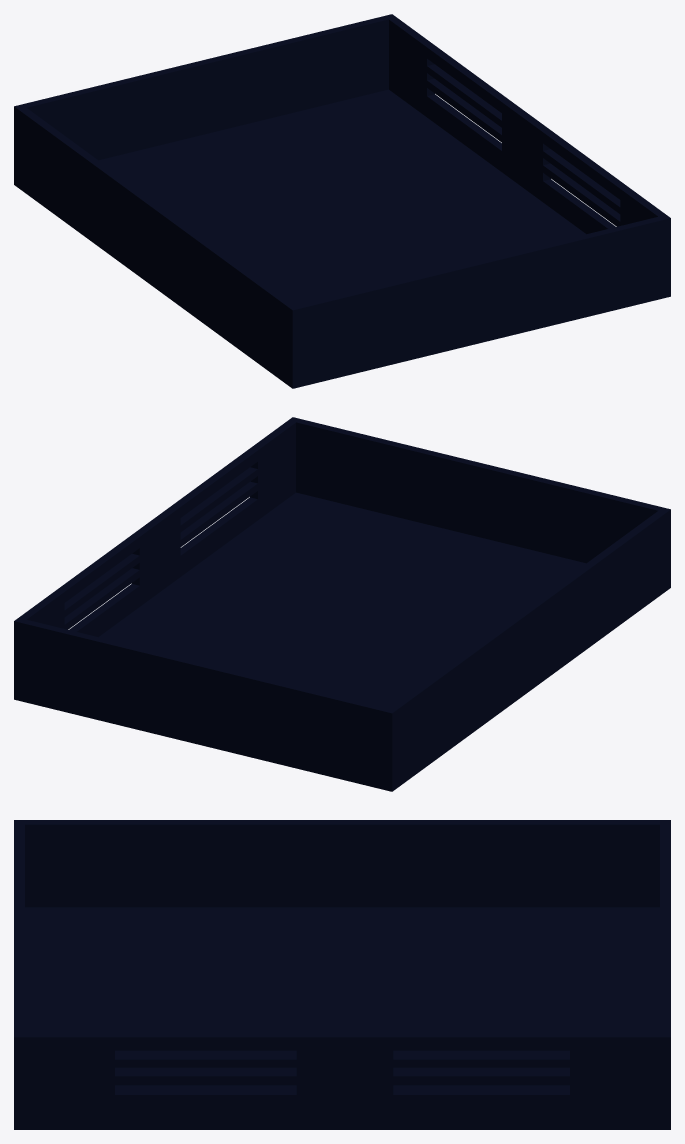
3 renders of one model, top to bottom at view 1: azimuth 30°, elevation 25°; view 2: azimuth 150°, elevation 25°; view 3: azimuth 270°, elevation 25°, orthographic. The views are drawn at different scales.
Visible parts, largest first — view 1: polySurface2; view 2: polySurface2; view 3: polySurface2.
Part boxes in pixels (<box>): polySurface2: <box>14,14,670,388</box>; polySurface2: <box>14,417,670,791</box>; polySurface2: <box>14,820,670,1129</box>.
Bounding box in the file's own units: 11.39 × 2.26 × 14.55.
